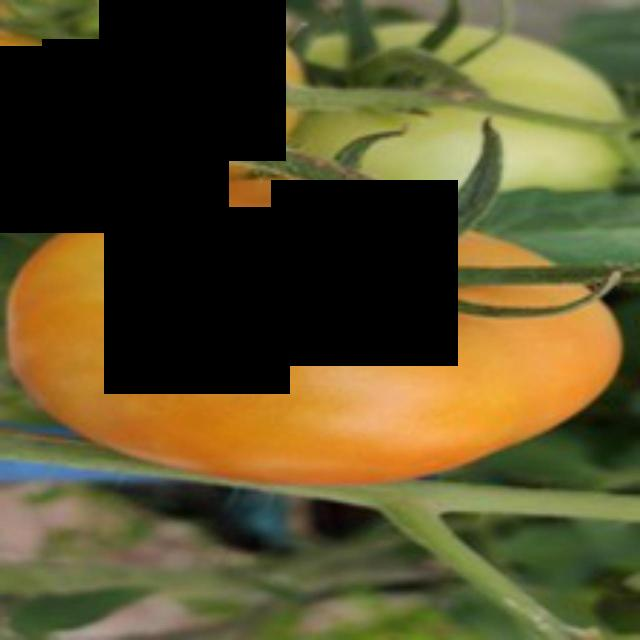tomato: (0, 160, 637, 540)
